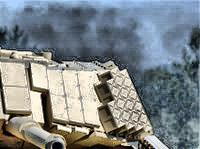tanks: (1, 51, 167, 149)
